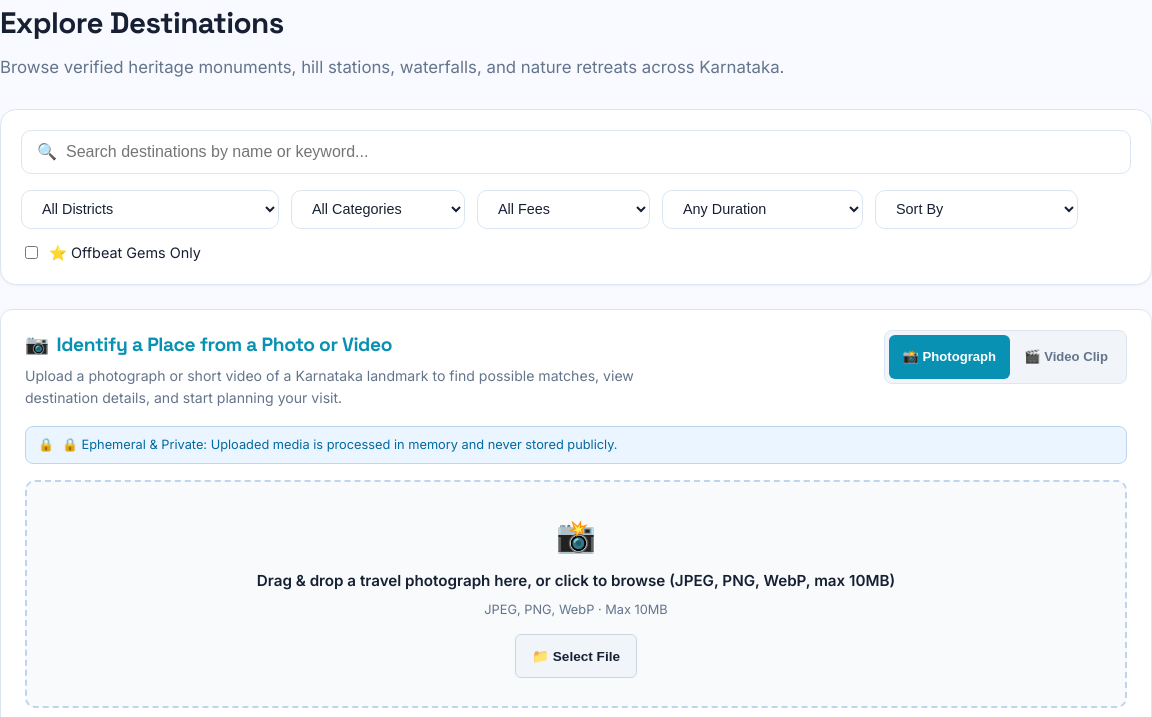
DestinationDiscovery — Phase 6 Advanced Discovery & Filters › queries backend with selected fee_type and duration filters
The width and height of the screenshot is (1152, 717).
Select "Free Entry Only" in the dropdown with test id "fee-filter-select" at (564, 209), box [477,190,650,229]
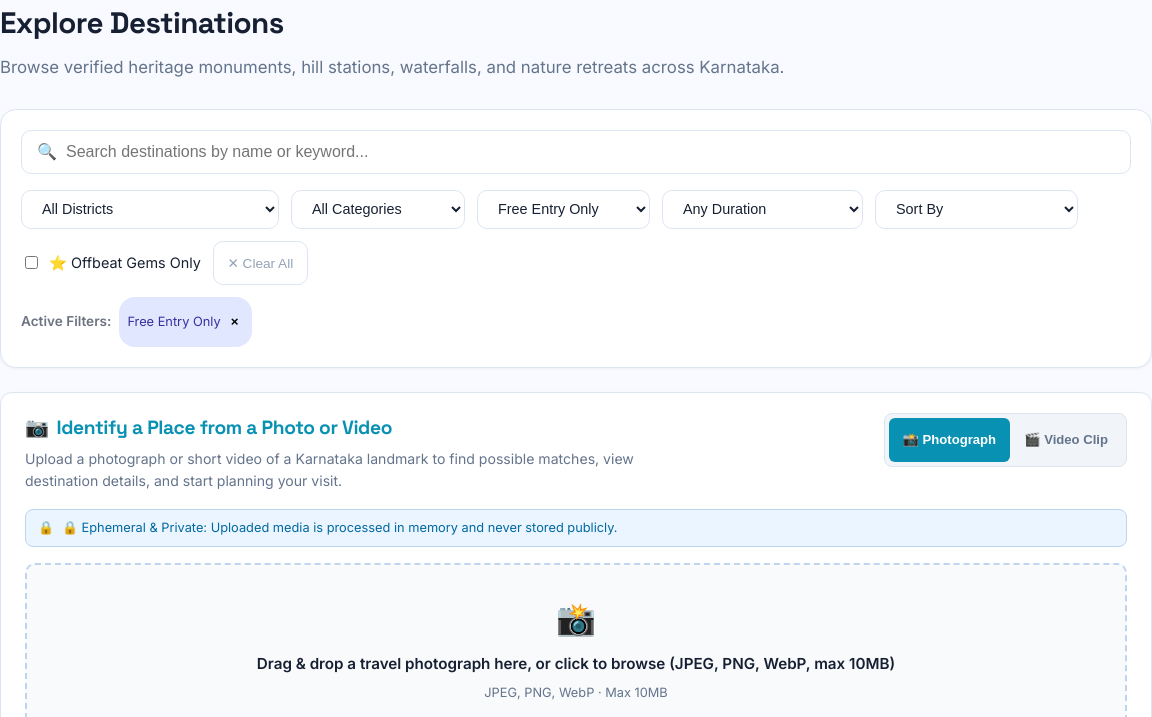
Check: the button with test id "reset-filters-btn" is shown, box [213,241,308,285]
